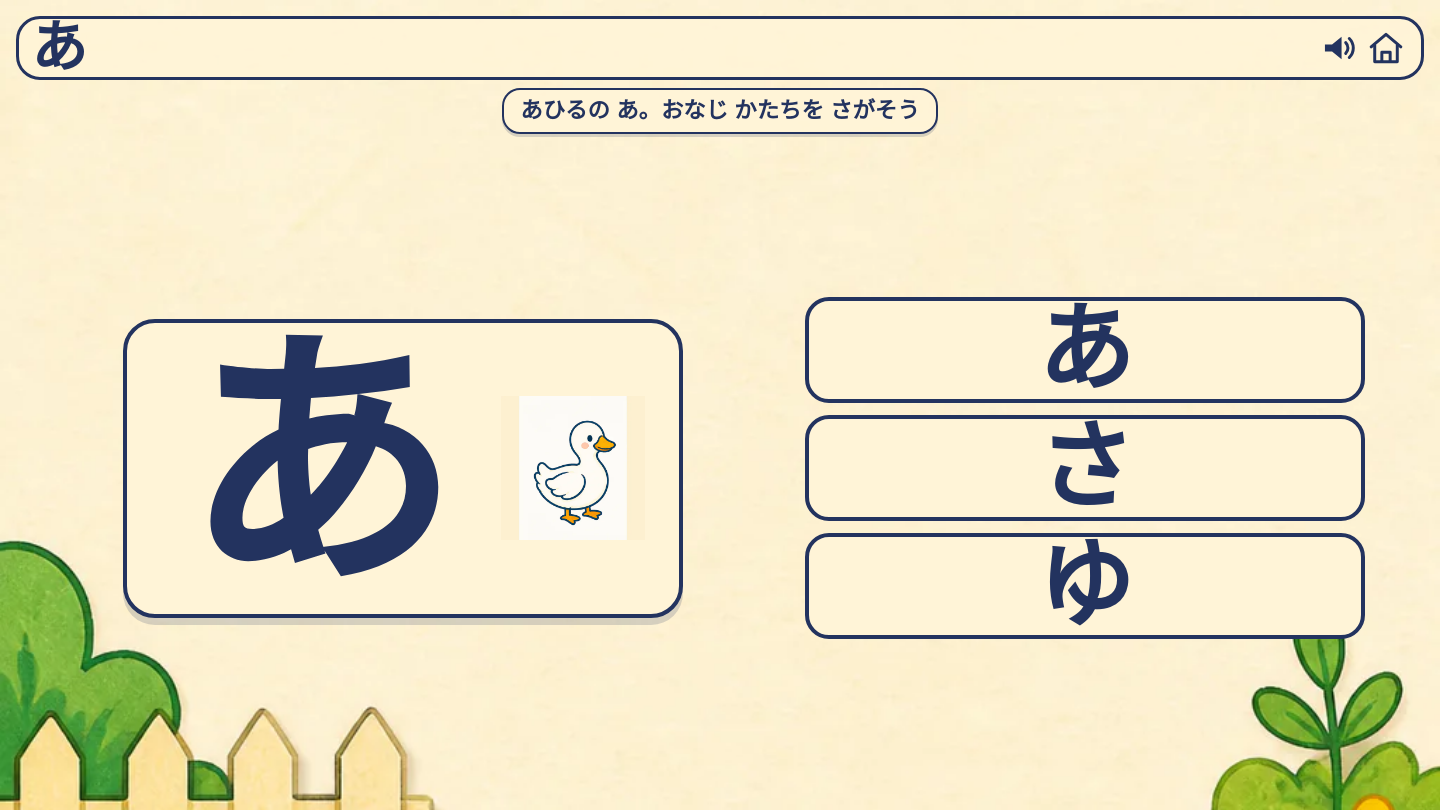
Test: LessonScreen › 成功予約中に庭へ戻ったら遅延遷移を破棄する
The image size is (1440, 810).
Step 1. Click the button named "もじ あ" → (1085, 350), box 805,297 -> 1365,403
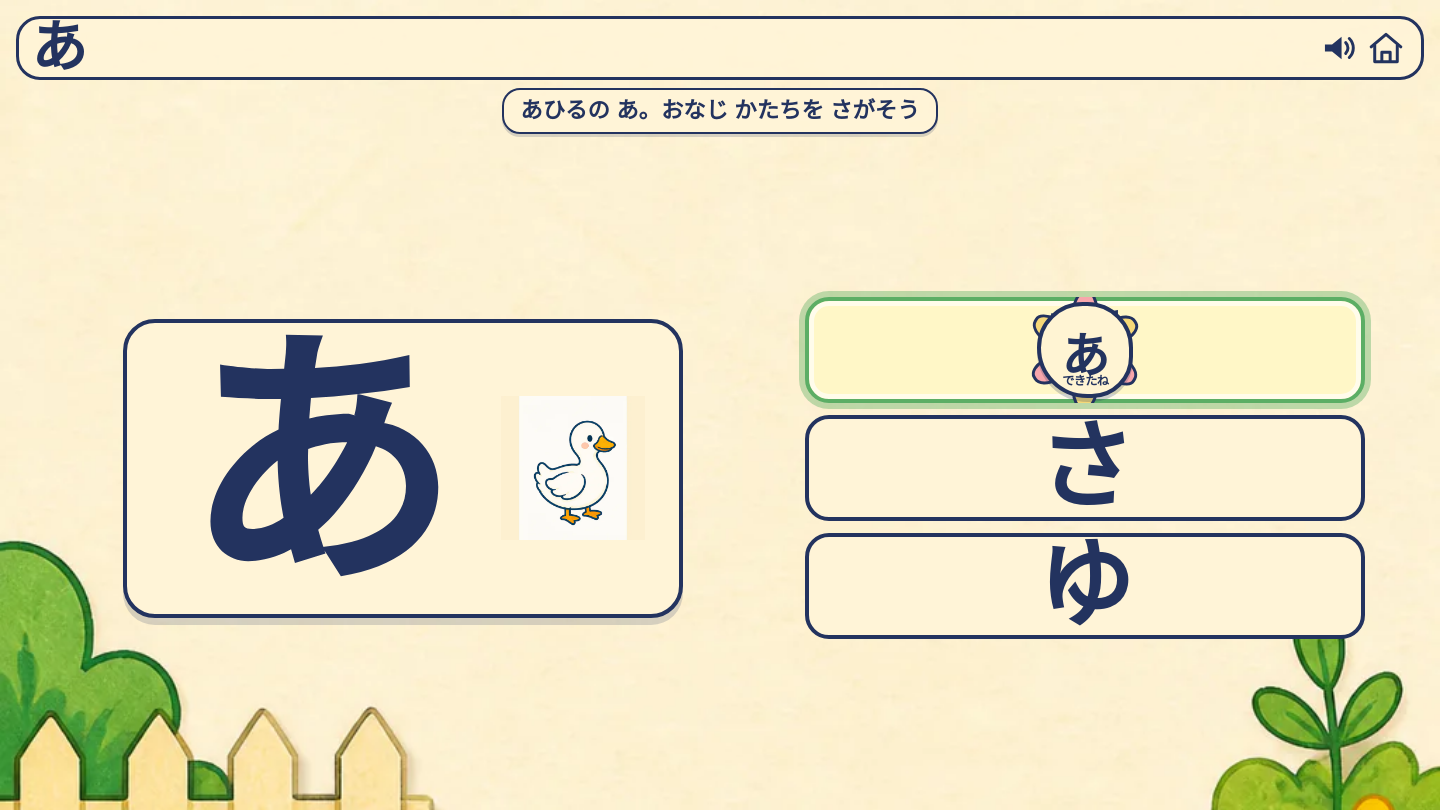
Step 2. Click the button named "にわへ もどる" → (1385, 48), box 1361,24 -> 1409,72
Wait 560 ms
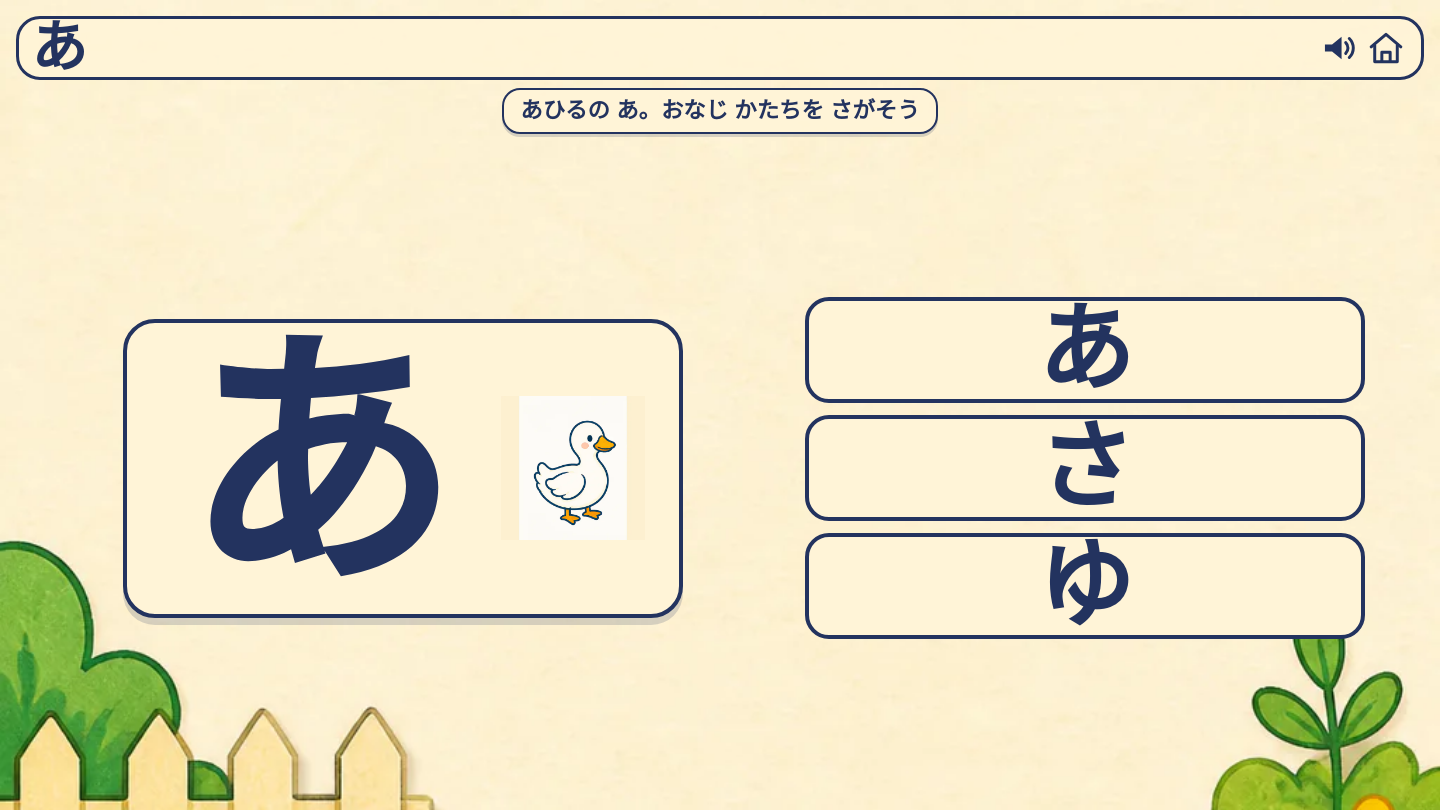
Now the message "あ できたね" is gone
